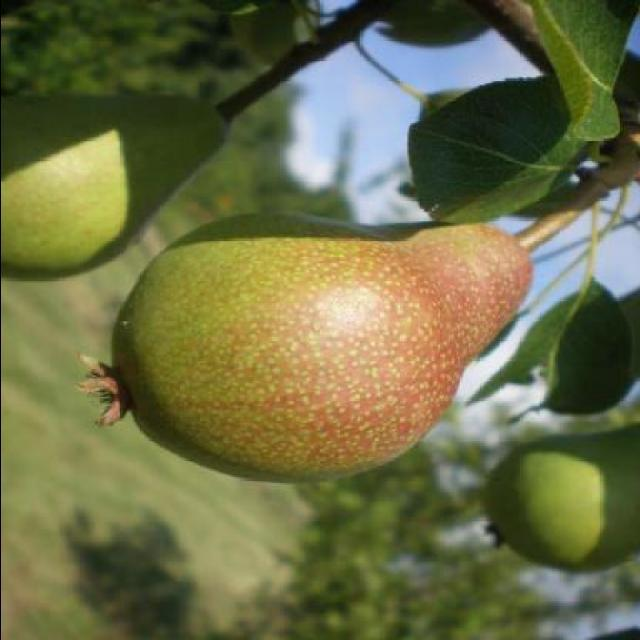Pear: (73, 210, 533, 484), (1, 94, 234, 286), (476, 420, 639, 574)
